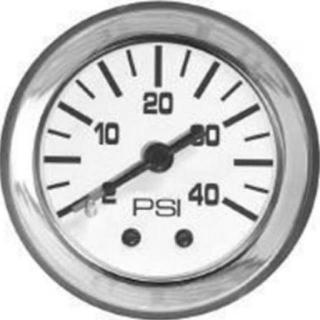gauge: (0, 0, 320, 320), (223, 186, 254, 228), (62, 191, 93, 226), (145, 142, 171, 172), (71, 204, 83, 214)
